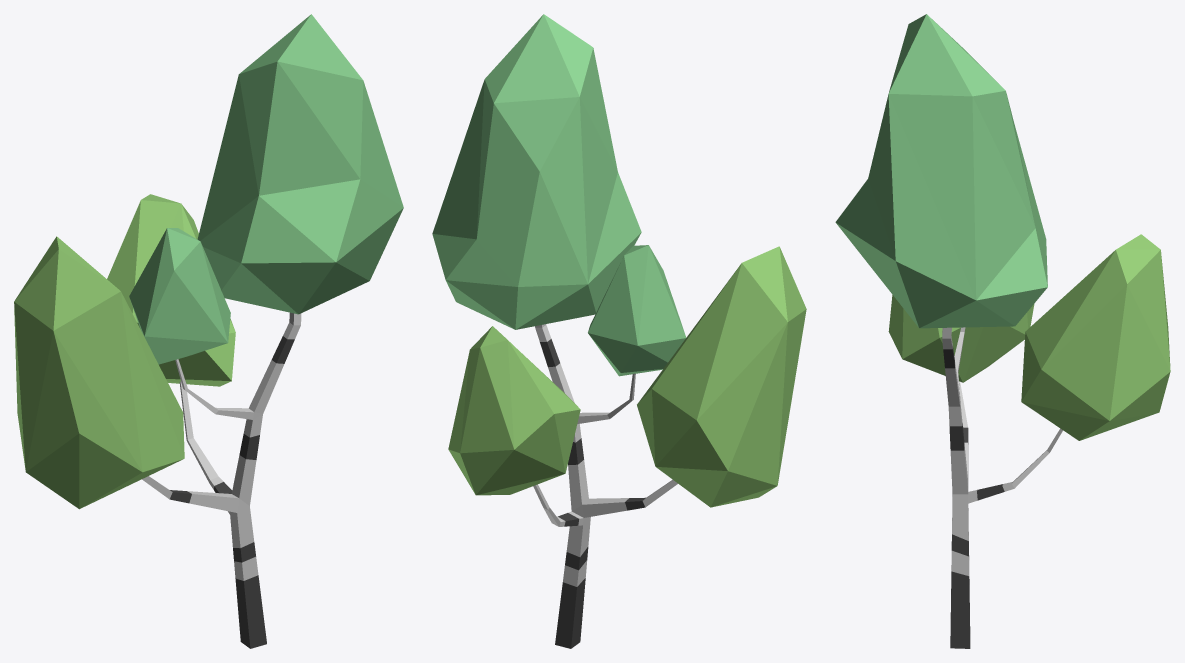
File: Birch Tree.fbx
3 renders of one model, left to right at view 1: azimuth 30°, elevation 25°; view 2: azimuth 150°, elevation 25°; view 3: azimuth 270°, elevation 25°, orthographic. The views are drawn at different scales.
Parts seen in each view (by area): view 1: Birch Tree; view 2: Birch Tree; view 3: Birch Tree.
Boxes of the visible parts, x1,y1,x2,y2 form: Birch Tree: [14, 14, 403, 648]; Birch Tree: [432, 14, 806, 648]; Birch Tree: [835, 14, 1170, 648].
Bounding box in the file's own units: 549 × 902 × 420.
